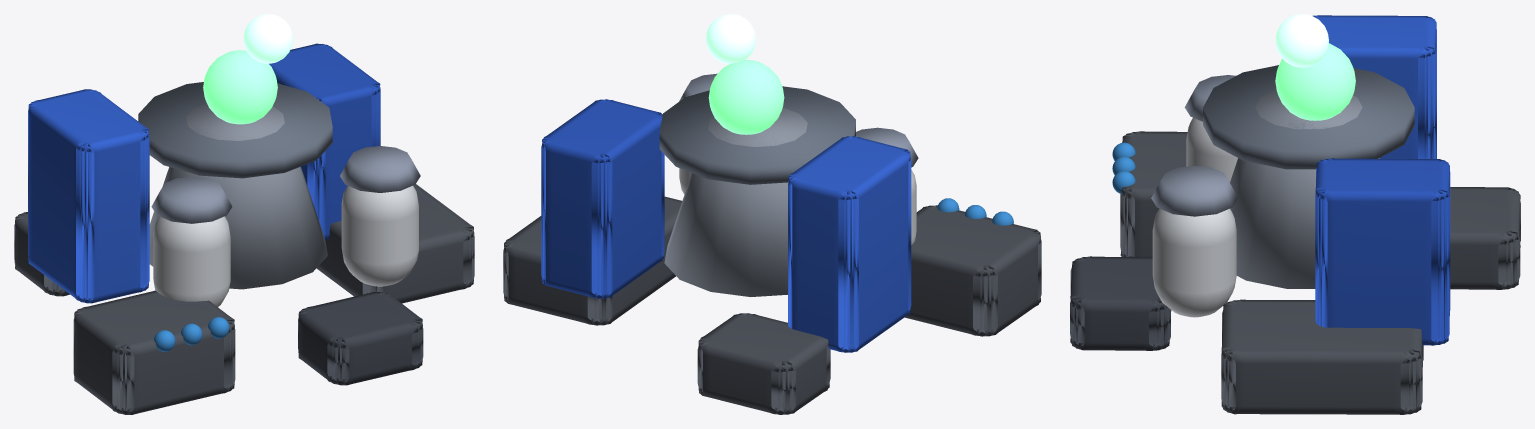
File: b_refinery.glb
3 views of the same model, side by side, from view 1: azimuth 30°, elevation 25°; view 2: azimuth 150°, elevation 25°; view 3: azimuth 270°, elevation 25° (orthographic). The views are drawn at different scales.
Visible parts, largest first — view 1: re_blue1.001, re_b1.001, re_cup.001, re_rim.001, re_b3.001, re_blue2.001, re_b2.001, re_tank1.001, re_tank0.001, re_fume1.001, re_tcap0.001, re_tcap1.001 (+2 smaller); view 2: re_blue1.001, re_blue2.001, re_cup.001, re_b1.001, re_b4.001, re_rim.001, re_b2.001, re_fume1.001, re_fume2.001, re_tcap0.001; view 3: re_blue2.001, re_b2.001, re_rim.001, re_cup.001, re_blue1.001, re_b3.001, re_tank1.001, re_b4.001, re_b1.001, re_fume1.001, re_tcap1.001, re_fume2.001 (+2 smaller).
Part boxes in pixels (<box>): re_blue1.001: <box>28,89,149,303</box>; re_b1.001: <box>73,290,235,414</box>; re_cup.001: <box>149,103,327,289</box>; re_rim.001: <box>138,82,332,178</box>; re_b3.001: <box>298,292,423,385</box>; re_blue2.001: <box>269,43,380,240</box>; re_b2.001: <box>316,184,474,303</box>; re_tank1.001: <box>341,185,418,286</box>; re_tank0.001: <box>153,216,230,306</box>; re_fume1.001: <box>203,50,277,124</box>; re_tcap0.001: <box>151,176,232,223</box>; re_tcap1.001: <box>340,146,420,192</box>; re_blue1.001: <box>788,136,911,352</box>; re_blue2.001: <box>541,99,664,298</box>; re_cup.001: <box>664,107,807,296</box>; re_b1.001: <box>904,205,1041,336</box>; re_b4.001: <box>697,313,830,414</box>; re_rim.001: <box>659,86,855,184</box>; re_b2.001: <box>503,196,682,325</box>; re_fume1.001: <box>708,60,784,134</box>; re_fume2.001: <box>706,14,756,63</box>; re_tcap0.001: <box>856,127,918,167</box>; re_blue2.001: <box>1315,158,1450,345</box>; re_b2.001: <box>1221,299,1423,414</box>; re_rim.001: <box>1203,65,1414,169</box>; re_cup.001: <box>1230,89,1379,288</box>; re_blue1.001: <box>1313,15,1436,158</box>; re_b3.001: <box>1070,256,1171,350</box>; re_tank1.001: <box>1152,208,1236,317</box>; re_b4.001: <box>1450,187,1520,289</box>; re_b1.001: <box>1120,131,1187,257</box>; re_fume1.001: <box>1275,43,1355,120</box>; re_tcap1.001: <box>1151,165,1238,216</box>; re_fume2.001: <box>1275,14,1328,67</box>.
Size of the model in its own units: 1.5 by 1.01 by 1.34.
